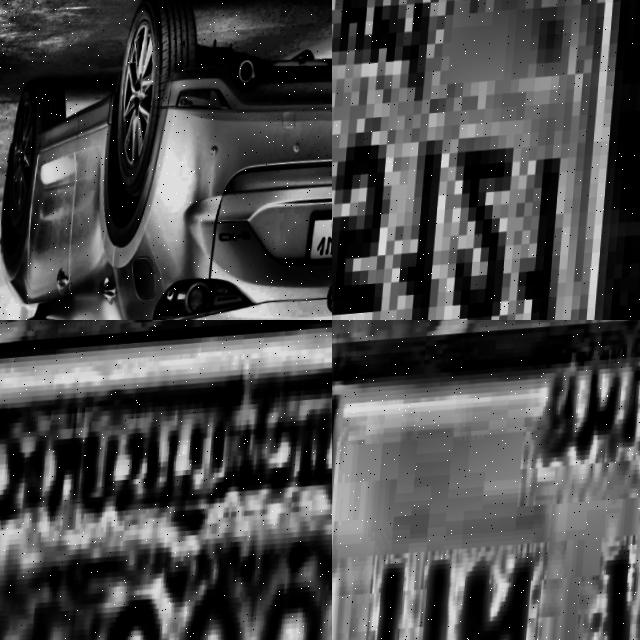license-plate: (0, 320, 332, 640), (332, 0, 640, 320), (332, 320, 640, 640), (306, 207, 332, 281)
